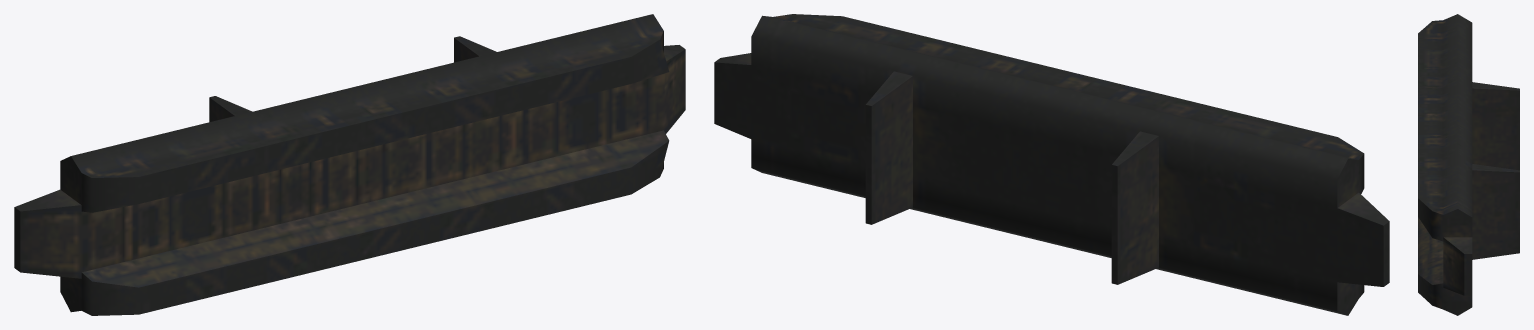
3 renders of one model, left to right at view 1: azimuth 30°, elevation 25°; view 2: azimuth 150°, elevation 25°; view 3: azimuth 270°, elevation 25°, orthographic. The views are drawn at different scales.
Visible parts, largest first — view 1: set_0_group_0; view 2: set_0_group_0; view 3: set_0_group_0.
Part boxes in pixels (left/top/right/bottom): set_0_group_0: left=14, top=14, right=685, bottom=315; set_0_group_0: left=714, top=14, right=1389, bottom=315; set_0_group_0: left=1418, top=14, right=1519, bottom=315.
Size of the model in its own units: 0.9 by 0.202 by 0.1739.
1 material, 1 textured.
